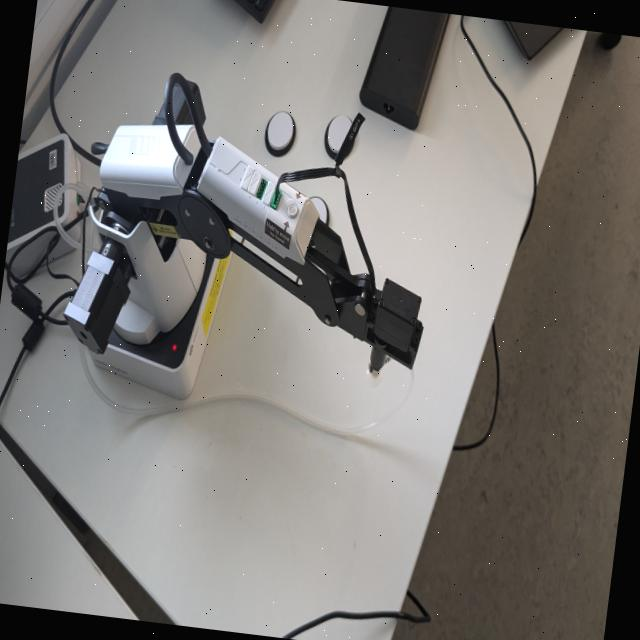Robot-end-effector-HF8z: (353, 271, 431, 401)
